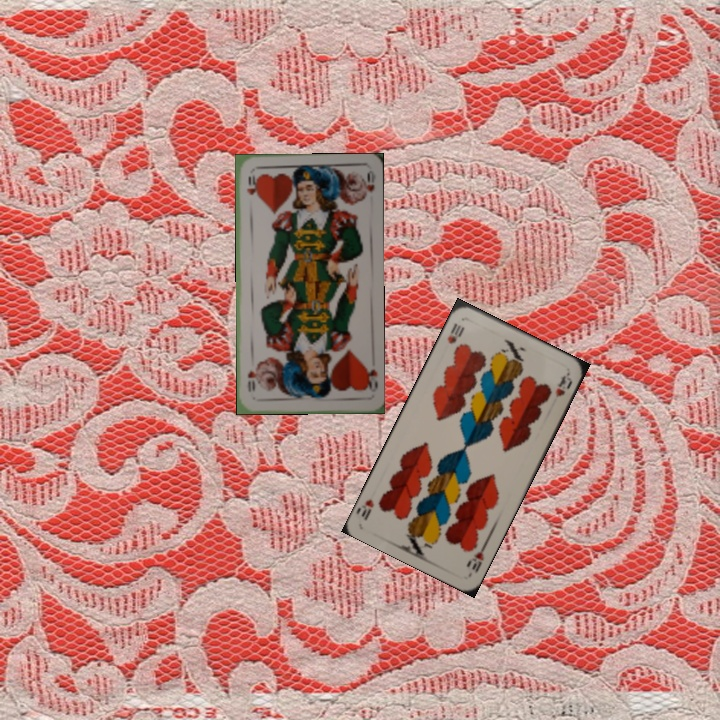H10: (463, 539, 489, 576), (443, 319, 467, 347)
HO: (360, 362, 380, 394), (243, 170, 258, 197)
